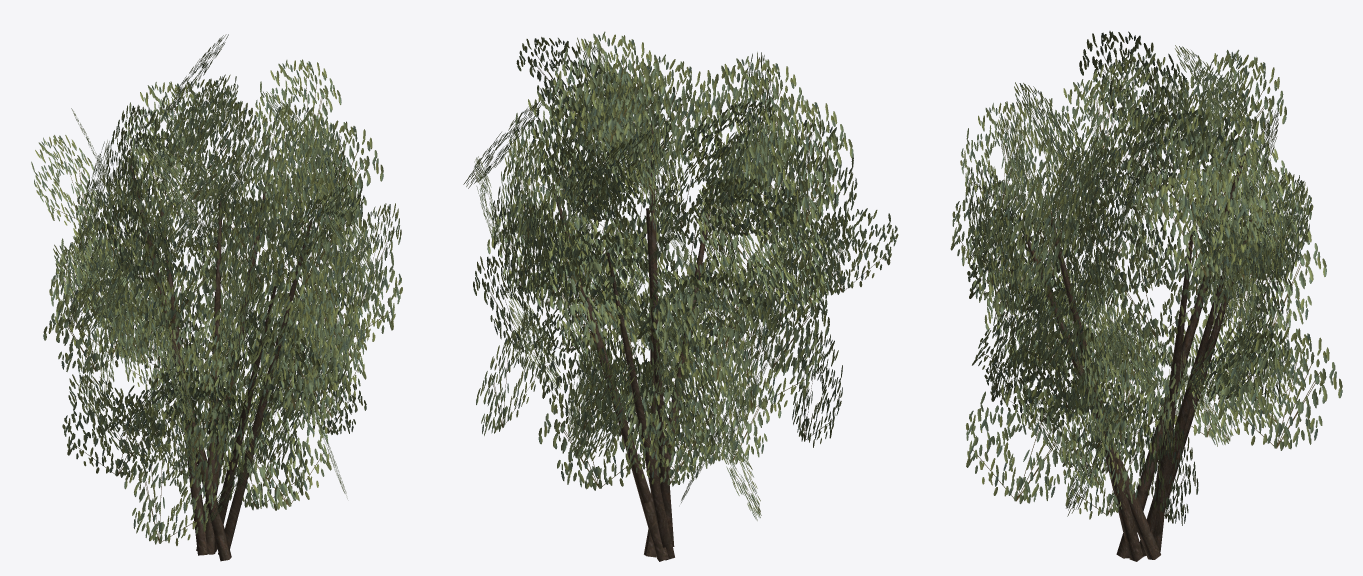
Rendered from tpl_rec_bank_dike_osier_hi.glb.
3 renders of one model, left to right at view 1: azimuth 30°, elevation 25°; view 2: azimuth 150°, elevation 25°; view 3: azimuth 270°, elevation 25°, orthographic. The views are drawn at different scales.
Parts seen in each view (by area): view 1: tpl_rec_bank_dike_osier_hi; view 2: tpl_rec_bank_dike_osier_hi; view 3: tpl_rec_bank_dike_osier_hi.
Boxes of the visible parts, x1,y1,x2,y2 form: tpl_rec_bank_dike_osier_hi: (31, 34, 402, 561); tpl_rec_bank_dike_osier_hi: (463, 31, 898, 561); tpl_rec_bank_dike_osier_hi: (950, 31, 1342, 561).
Bounding box in the file's own units: 3.5 × 4.92 × 3.48.
Materials: 2 (2 with a texture image).
